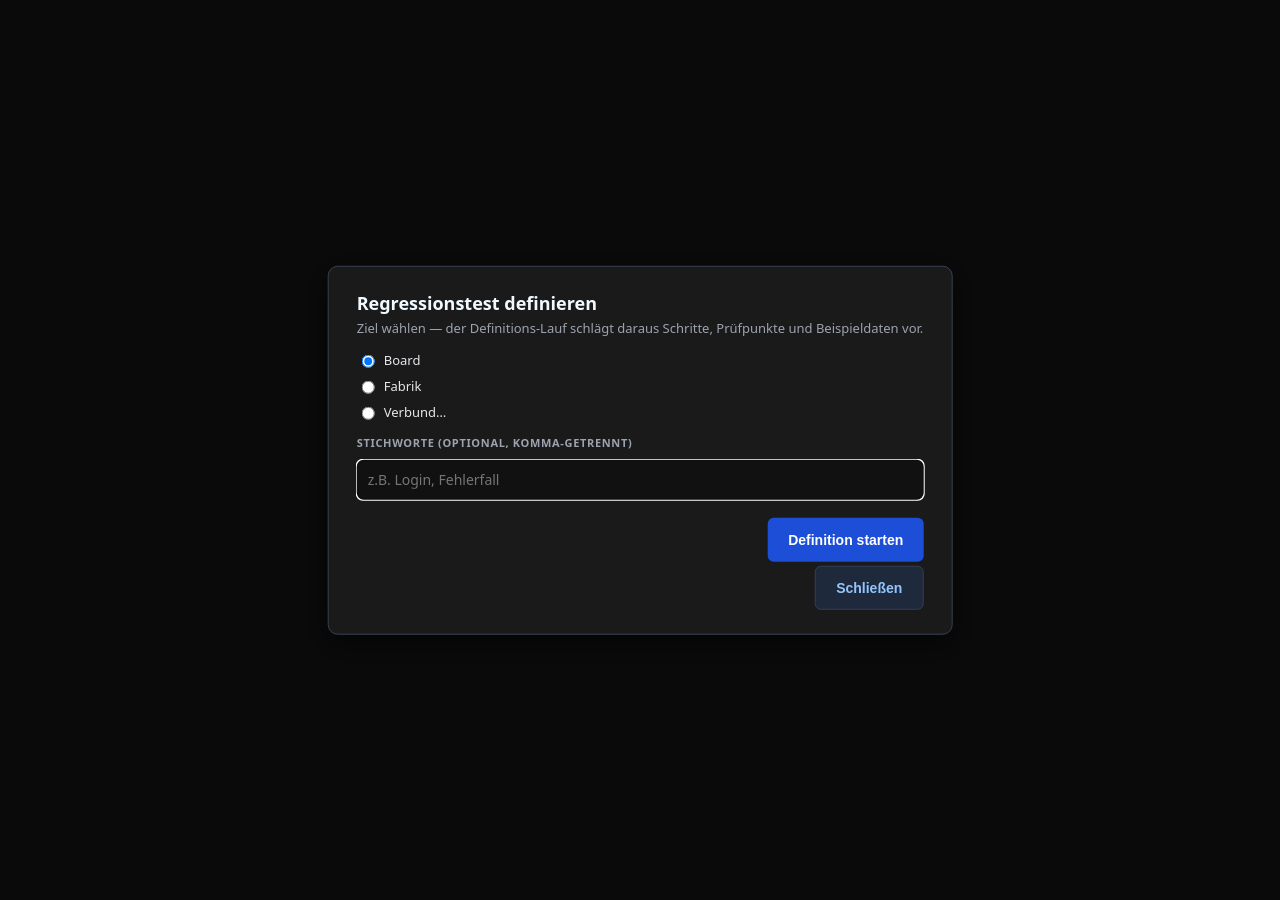
Scenario: regression-define-dialog AC6 — Ziel-Auswahl (Bereich/Verbund) + Start › Netzwerkfehler beim Start zeigt Inline-Fehler
Click the button "Definition starten".
click(846, 539)  # box left=768, top=517, right=923, bottom=561
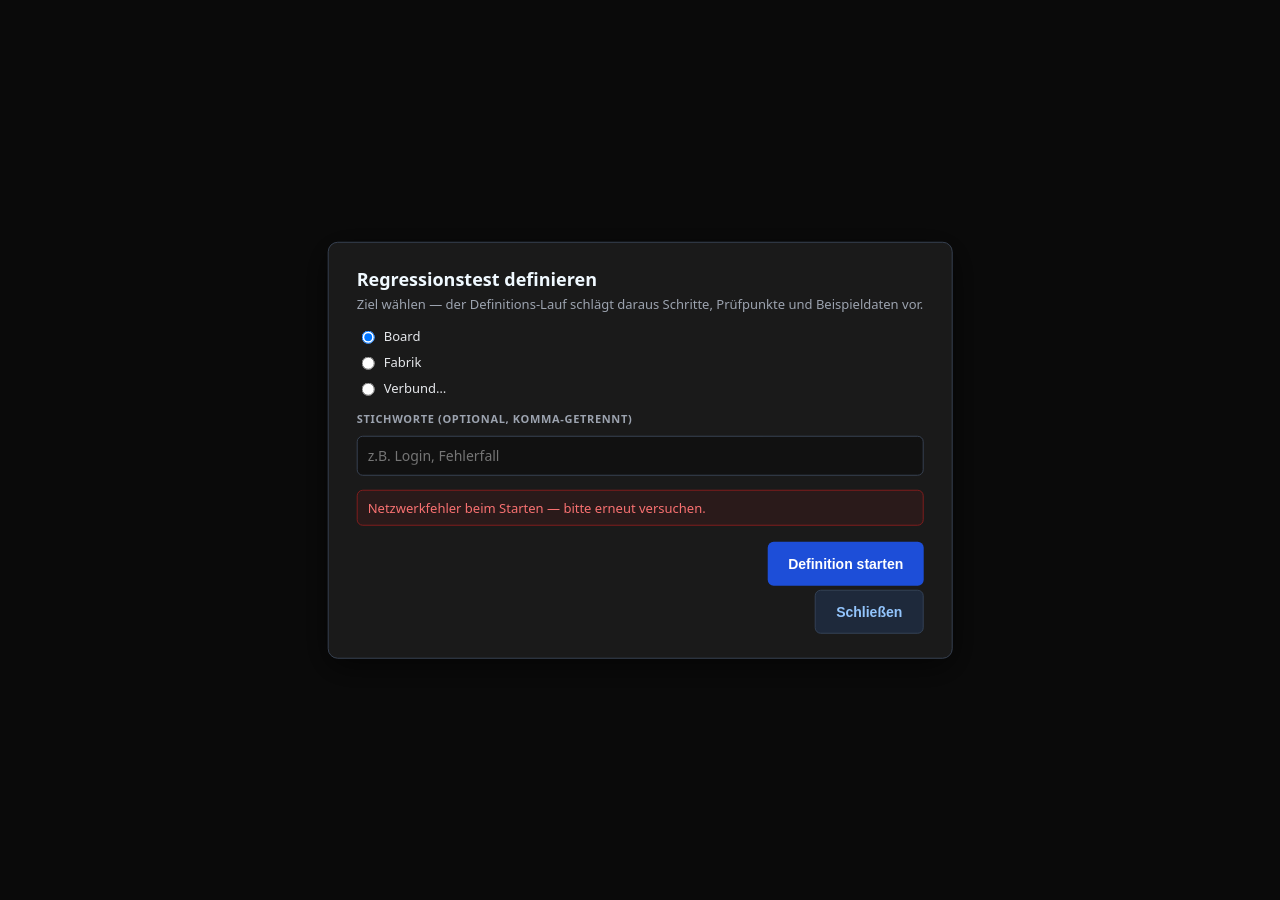
expect the text "Netzwerkfehler" is shown: met, box left=368, top=498, right=706, bottom=516
